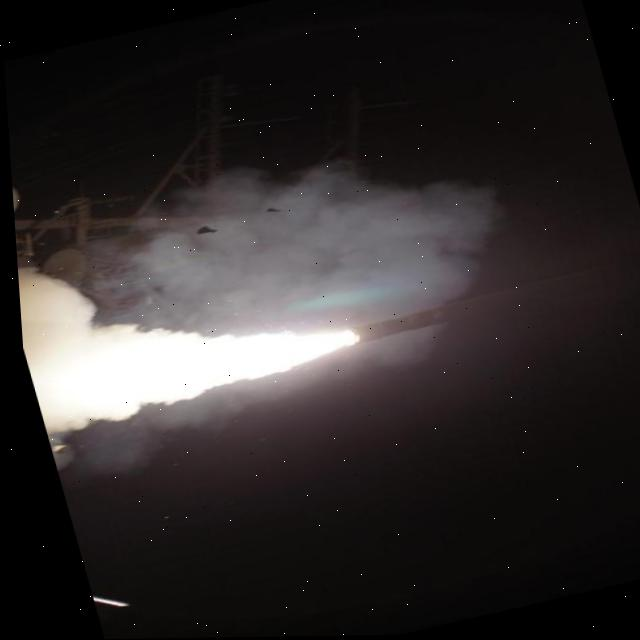missile: (340, 272, 577, 347)
